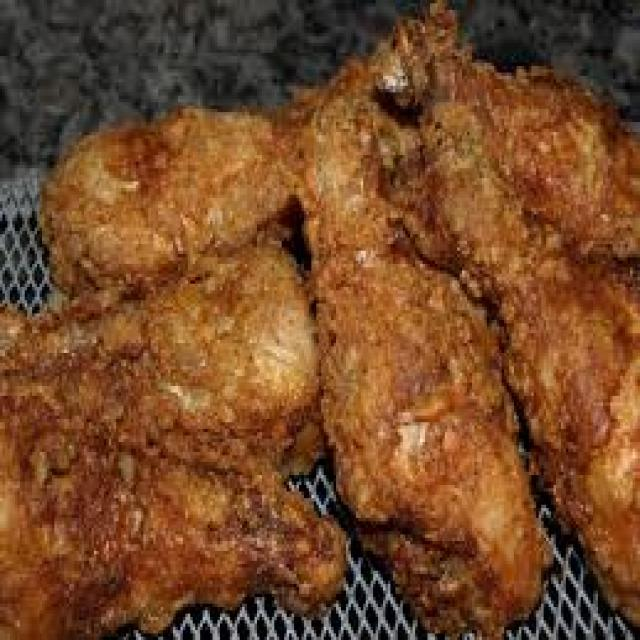Frango: (0, 23, 638, 640)
